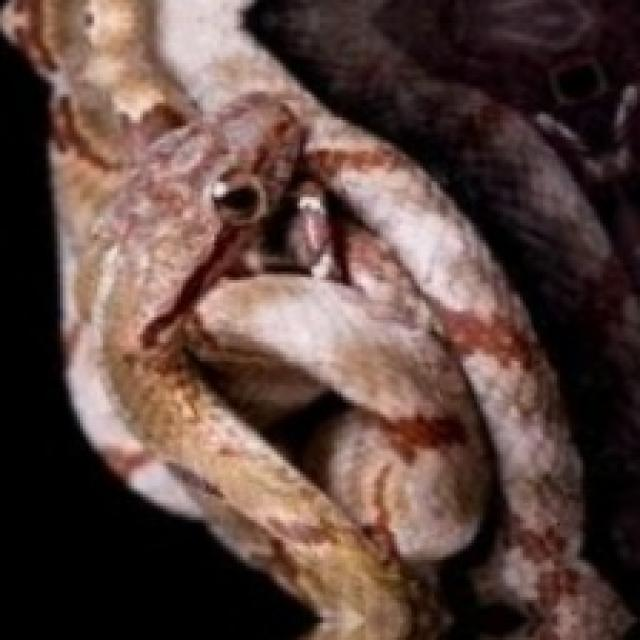dog-toothed cat snake: (0, 0, 631, 637)
